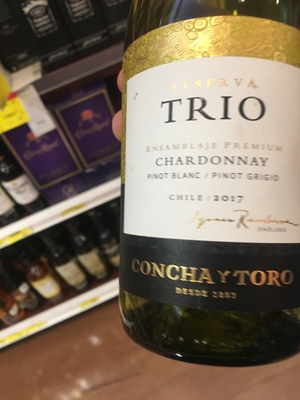trio chardonnay: (104, 14, 300, 361)
